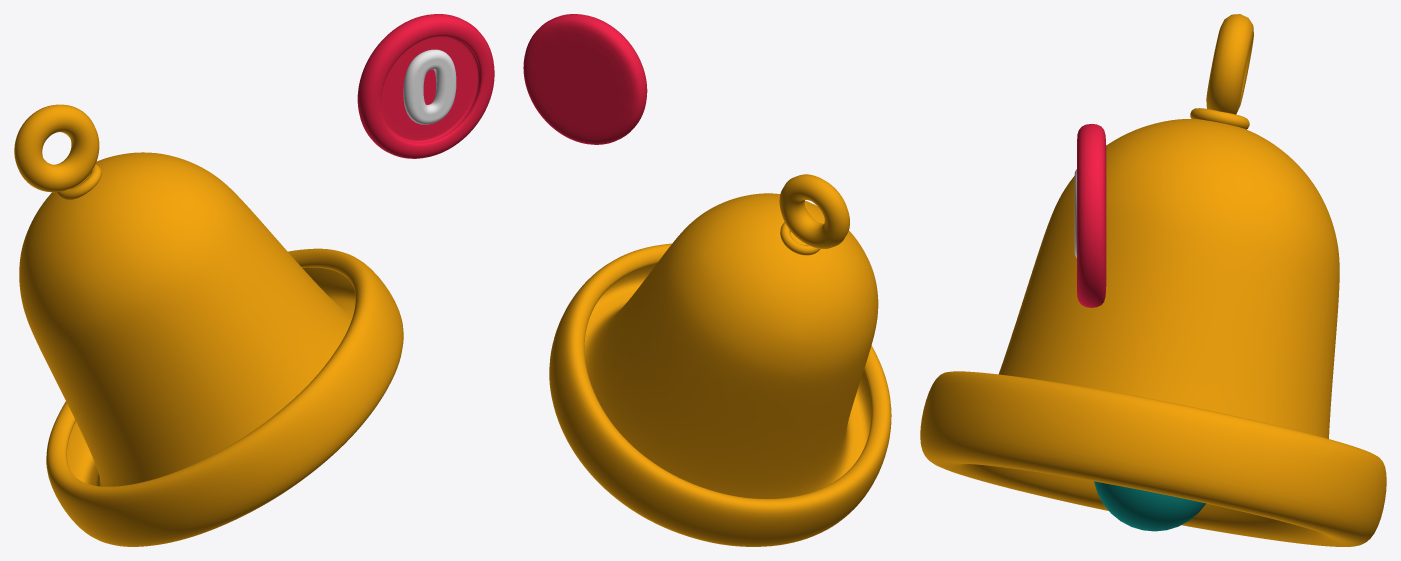
The model's file is empty-notifications-3d-animated-icon-1470051150098.glb.
3 views of the same model, side by side, from view 1: azimuth 30°, elevation 25°; view 2: azimuth 150°, elevation 25°; view 3: azimuth 270°, elevation 25° (orthographic). The views are drawn at different scales.
Visible parts, largest first — view 1: BELL, X SIGN, Text; view 2: BELL, X SIGN; view 3: BELL, X SIGN, Cylinder.
Part boxes in pixels (<box>): BELL: <box>14,104,403,546</box>; X SIGN: <box>357,14,494,158</box>; Text: <box>403,49,456,124</box>; BELL: <box>549,174,891,546</box>; X SIGN: <box>523,14,647,144</box>; BELL: <box>920,14,1386,546</box>; X SIGN: <box>1077,124,1106,307</box>; Cylinder: <box>1094,481,1205,531</box>.
Bounding box in the file's own units: 0.8497 × 0.9165 × 0.6858.
